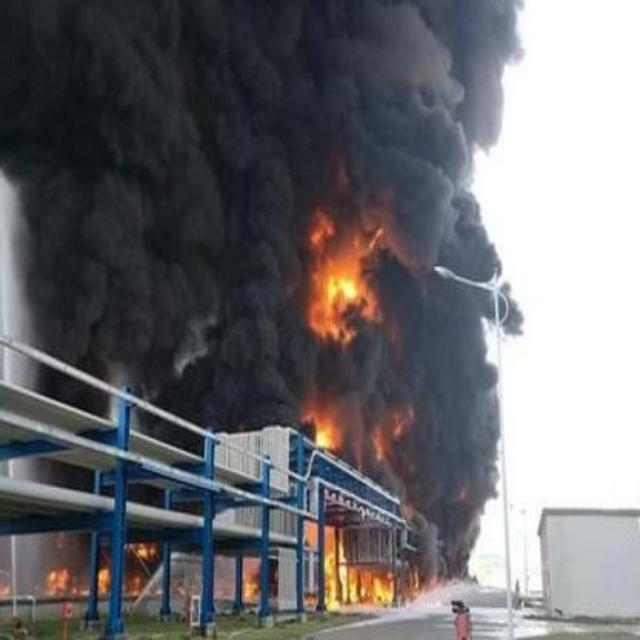Fire: (305, 511, 419, 615), (314, 209, 372, 337), (310, 409, 342, 455), (244, 560, 258, 598), (132, 539, 152, 557), (130, 578, 142, 594)
Smoke: (5, 6, 309, 426), (318, 2, 520, 210), (377, 214, 518, 504), (428, 512, 482, 586), (314, 339, 366, 407), (43, 564, 67, 596), (95, 566, 108, 596), (1, 584, 11, 602)
